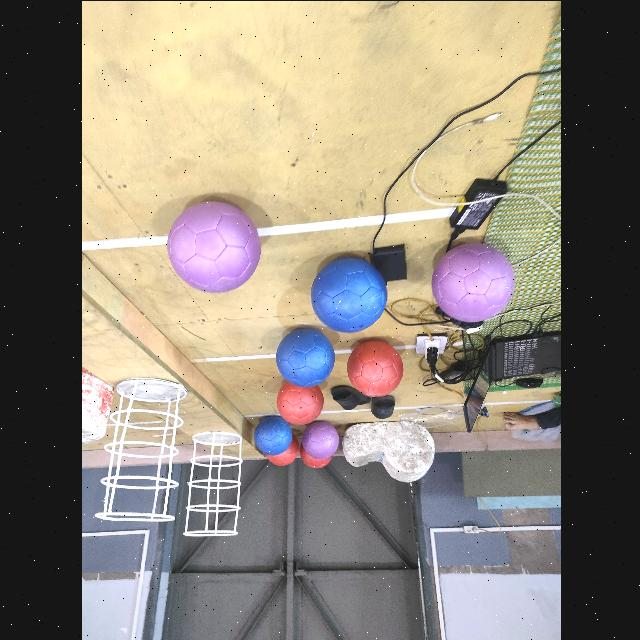B: (309, 256, 385, 332), (275, 328, 333, 387), (253, 415, 291, 455)
P: (165, 202, 258, 292), (431, 242, 513, 322), (300, 421, 338, 459)
R: (346, 340, 402, 396), (274, 382, 322, 424), (266, 436, 298, 464), (299, 444, 331, 466)
S: (90, 371, 192, 527), (177, 423, 247, 543)
